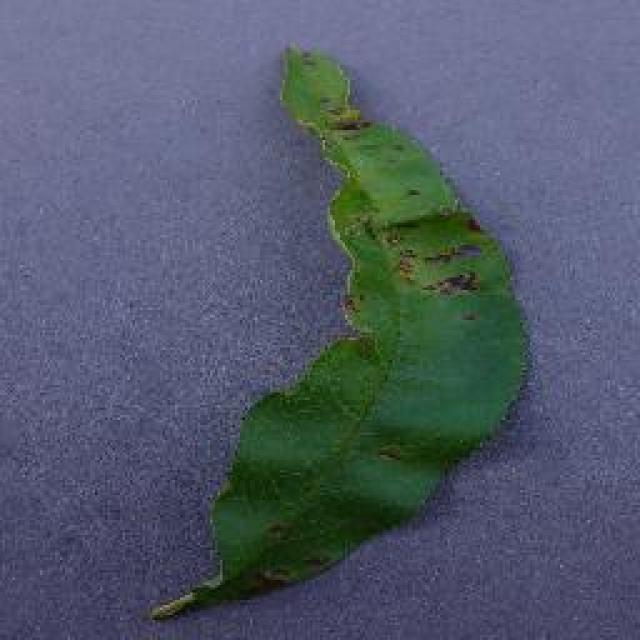Peach_Bacterial_Spot: (318, 74, 504, 328)
